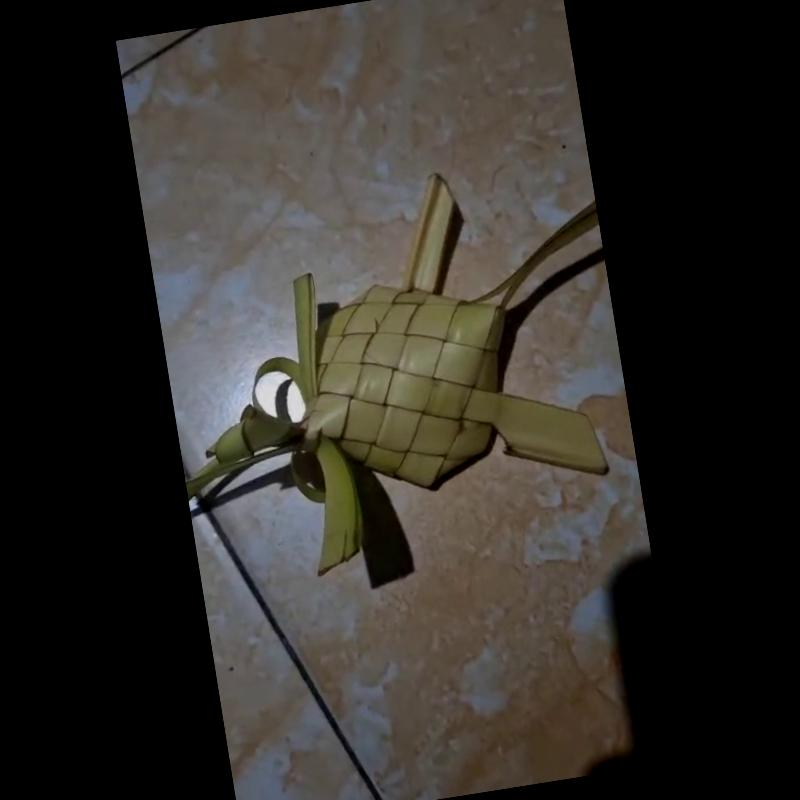Tipat Dampulan: (185, 157, 606, 577)
